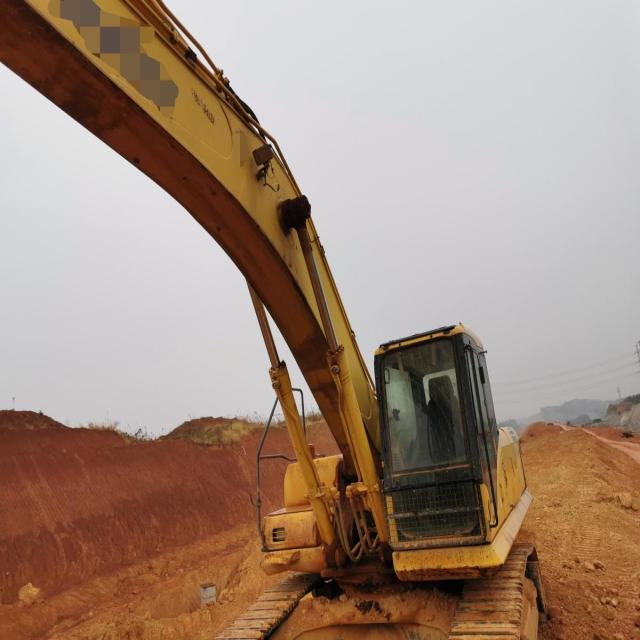excavator: (0, 0, 555, 640)
